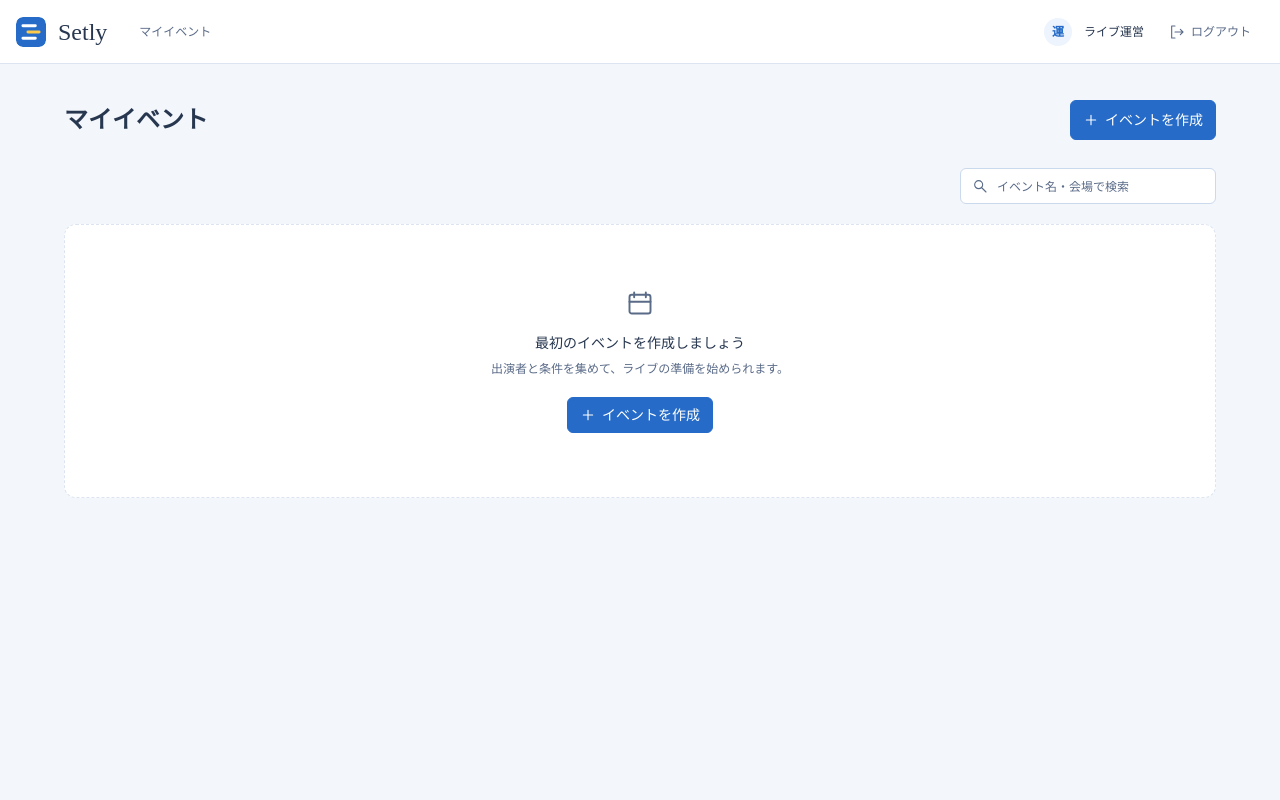
Scenario: event creation entry points › opens creation from the empty list and creates an event
Expected: the text "最初のイベントを作成しましょう" is shown, [535,334,745,351]
Click the button "イベントを作成" below "出演者と条件を集めて、ライブの準備を始められます。" at (640, 415), box [567,397,713,433]
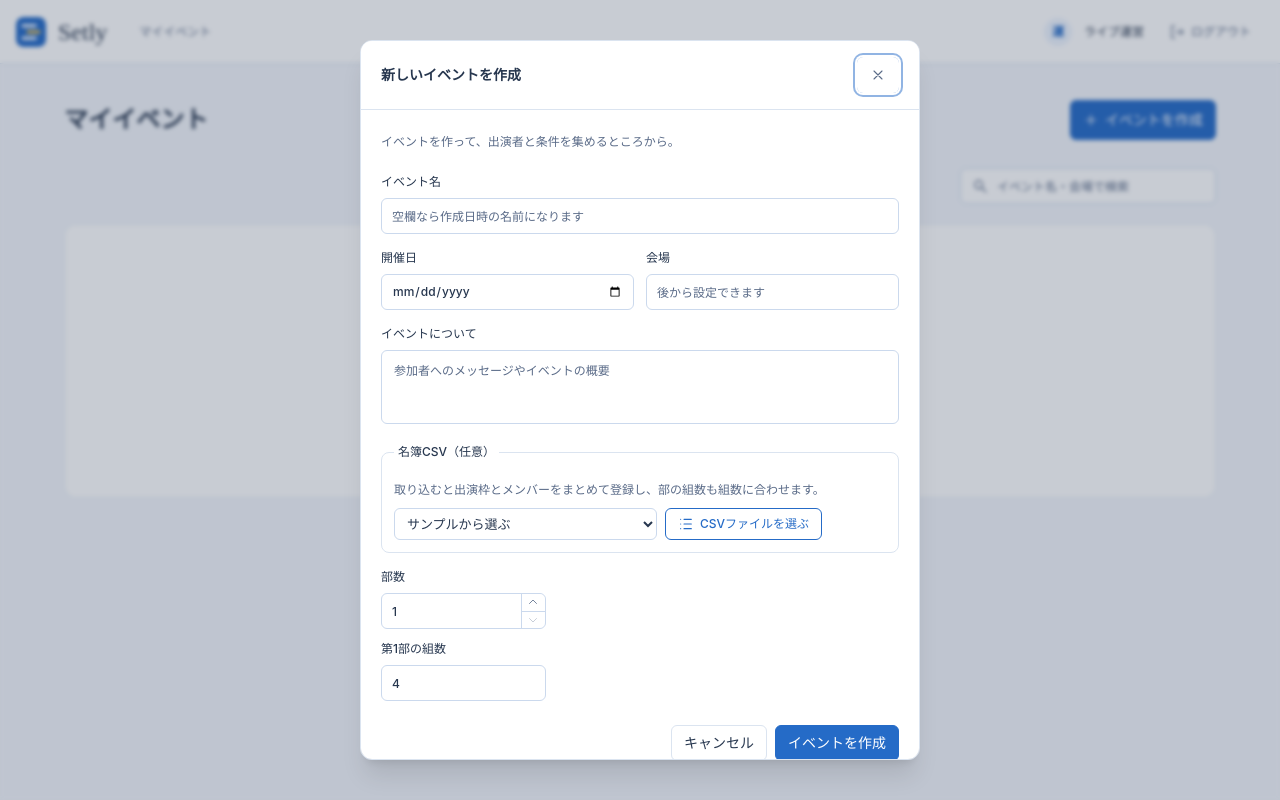
Now the dialog "新しいイベントを作成" is shown, box [360,40,920,760]
Type "空の一覧から作成" into the field labelled "イベント名" at (640, 216), box [381,198,899,234]
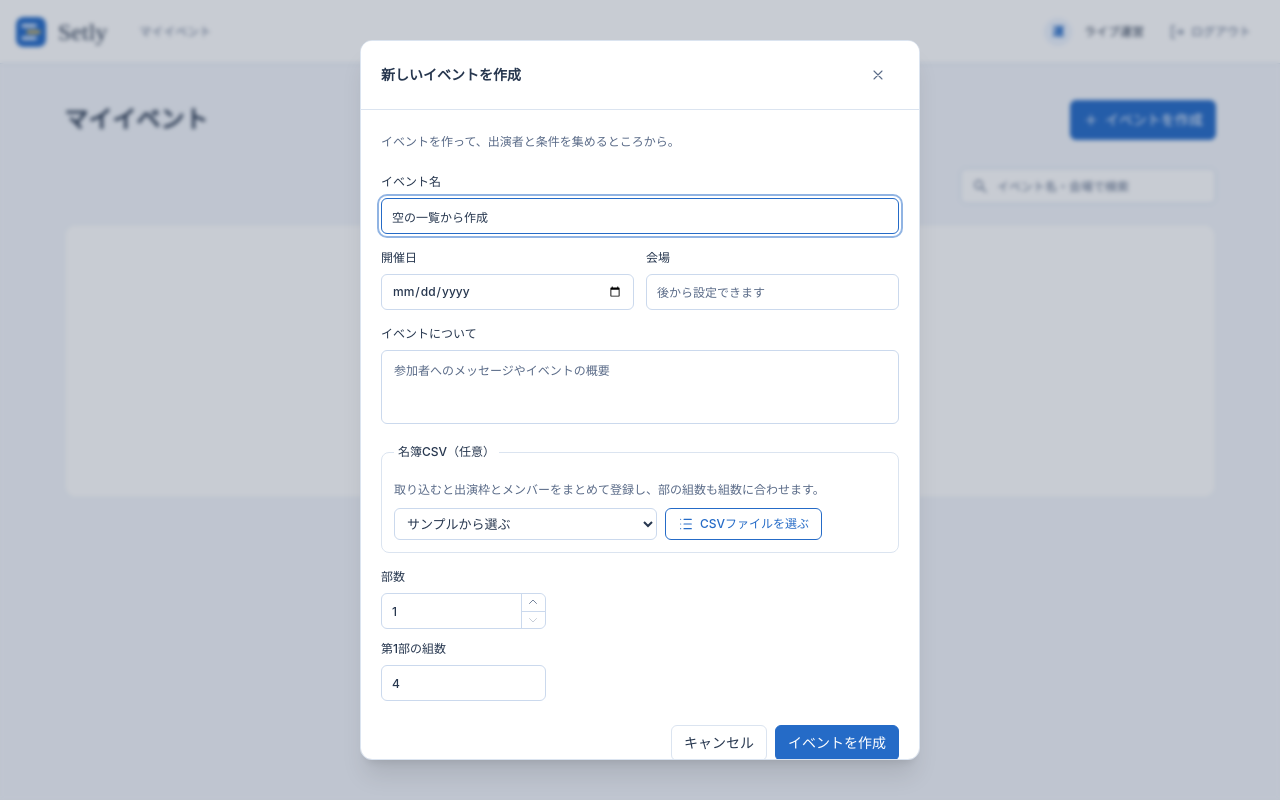
Click the button "イベントを作成" at (837, 743), box [775,725,899,761]
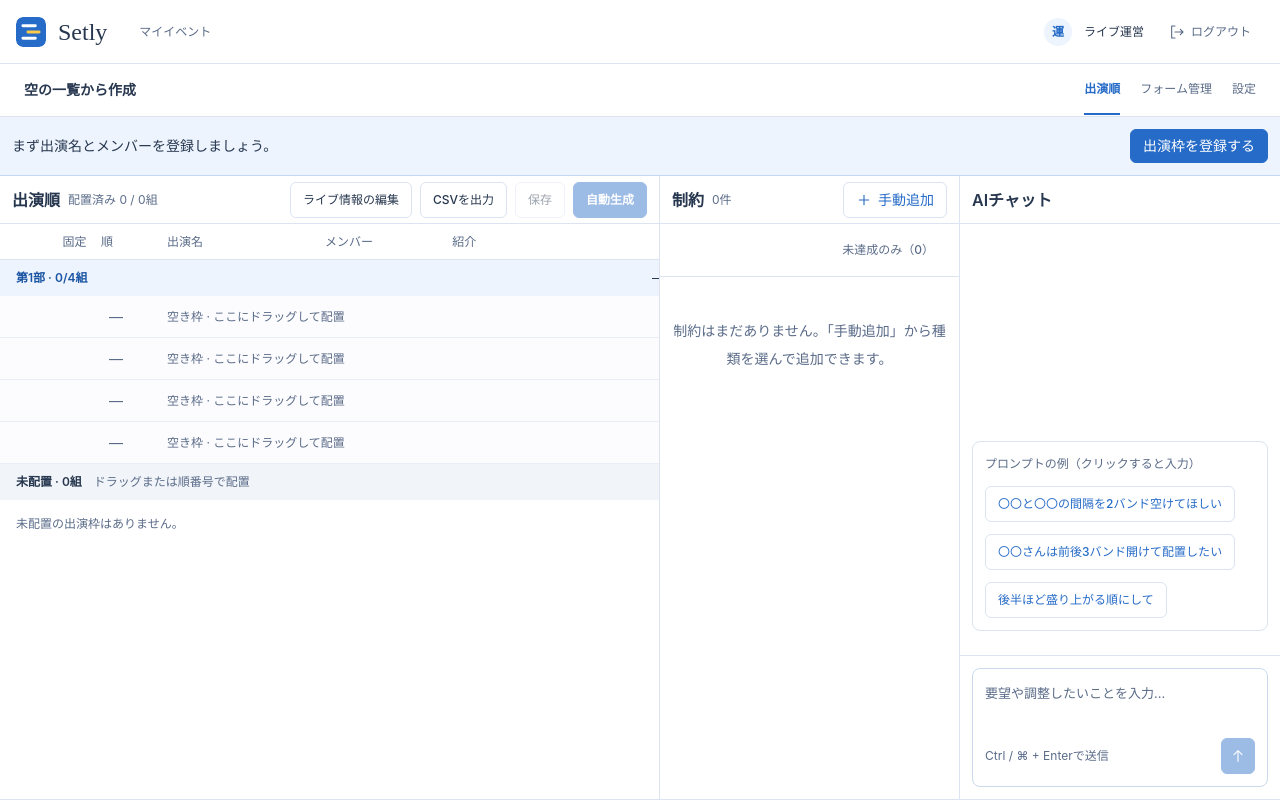
Now the heading "空の一覧から作成" is shown, box [24,81,136,98]
